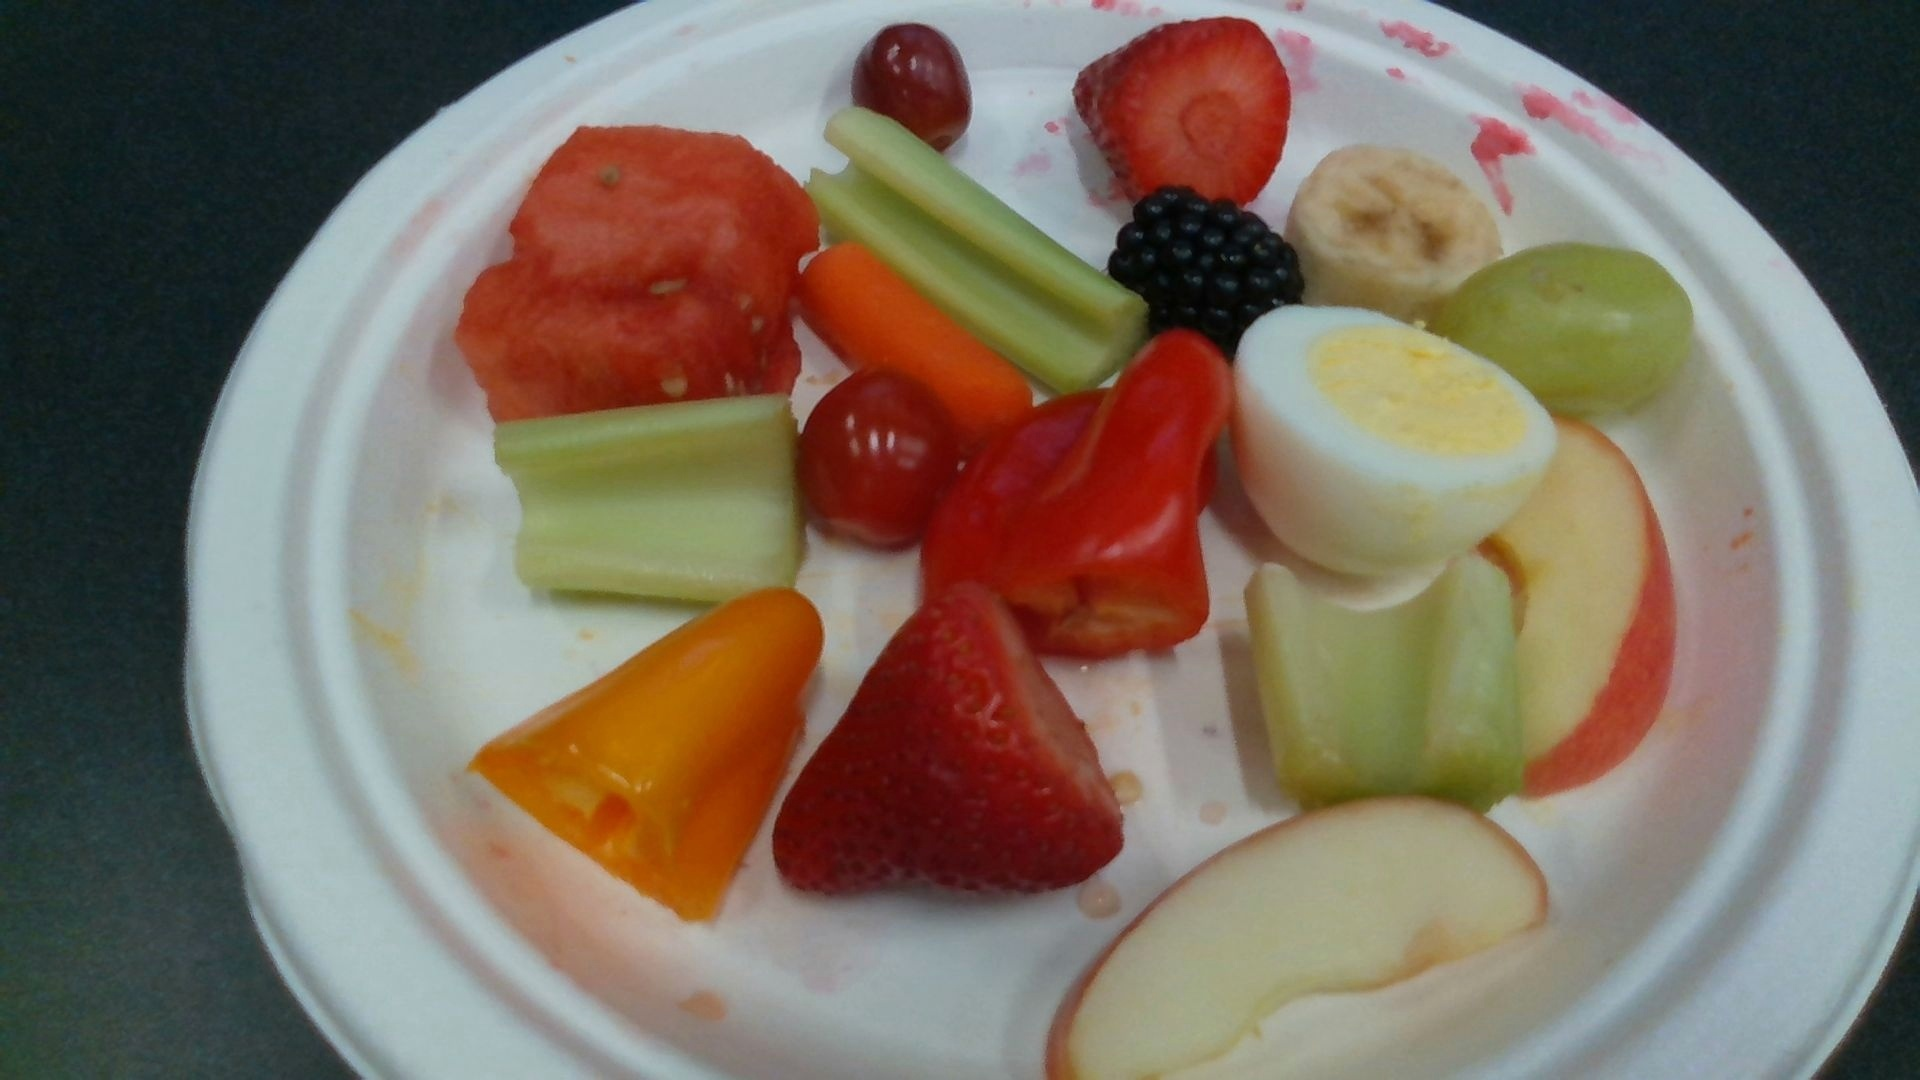apple: (1044, 796, 1547, 1076), (1491, 415, 1677, 796)
banana: (1287, 146, 1502, 311)
bell_pepper: (469, 589, 825, 920), (922, 334, 1230, 659)
blackberry: (1112, 190, 1305, 348)
carrot: (799, 245, 1033, 443)
celery: (808, 108, 1145, 388), (1240, 560, 1520, 808), (495, 393, 799, 603)
cherry_tomato: (800, 371, 955, 545)
egg: (1234, 306, 1557, 580)
grape_green: (1429, 247, 1692, 413)
grape_purple: (852, 26, 975, 146)
melon: (455, 125, 819, 421)
strawberry: (774, 585, 1122, 890), (1075, 18, 1292, 210)
